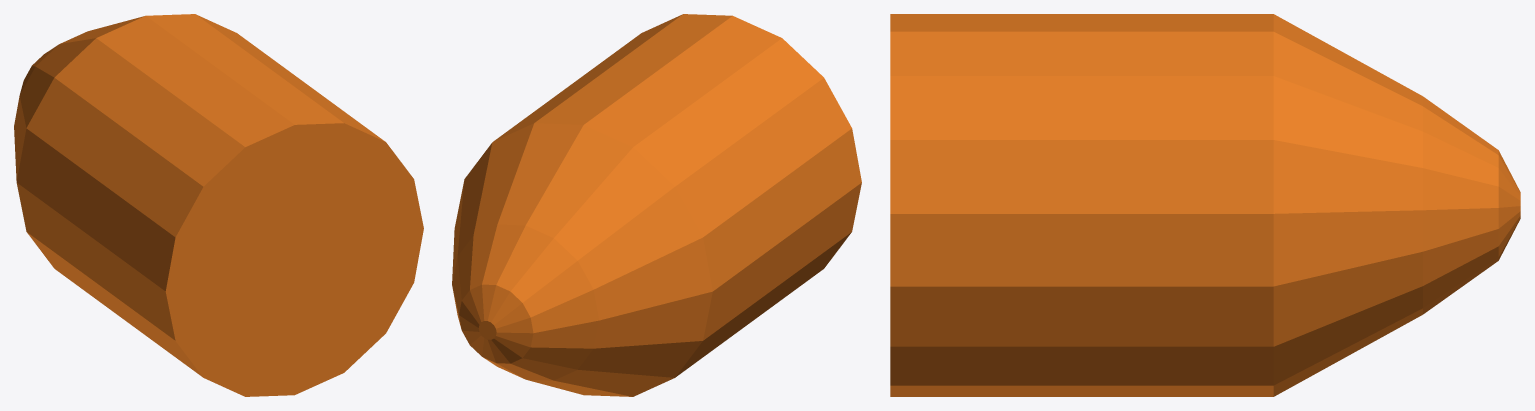
The model's file is LowPoly_Pistol_Bullet.fbx.
3 renders of one model, left to right at view 1: azimuth 30°, elevation 25°; view 2: azimuth 150°, elevation 25°; view 3: azimuth 270°, elevation 25°, orthographic. The views are drawn at different scales.
Parts seen in each view (by area): view 1: bullet; view 2: bullet; view 3: bullet.
Boxes of the visible parts, left/top/right/bottom form: bullet: left=14, top=14, right=423, bottom=396; bullet: left=452, top=14, right=861, bottom=396; bullet: left=890, top=14, right=1520, bottom=396.
Size of the model in its own units: 50.54 by 50.54 by 83.1.
